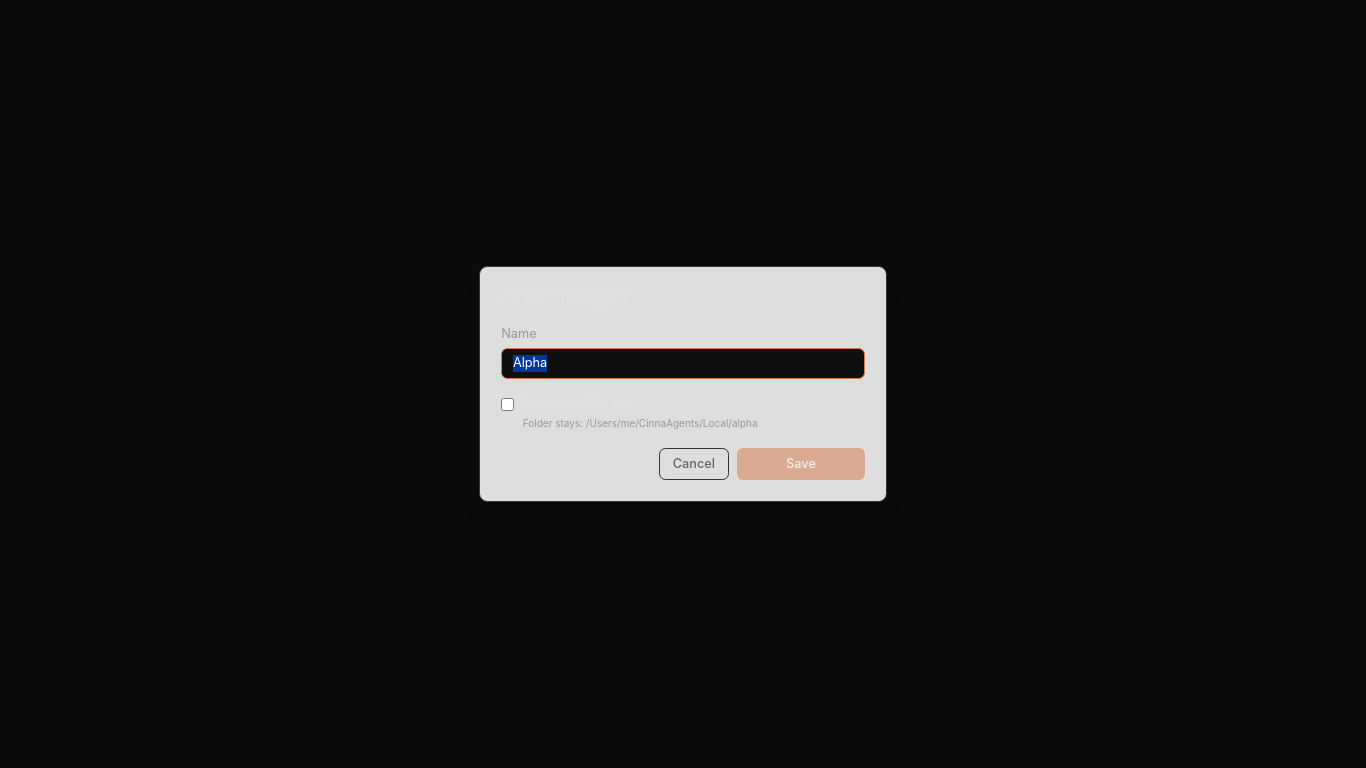
Test: RenameAgentDialog › flips the path line between where the folder stays and where it goes
Replace the text in the field with "Invoice Watcher" at [683, 363], box x1=501 y1=348 x2=865 y2=379
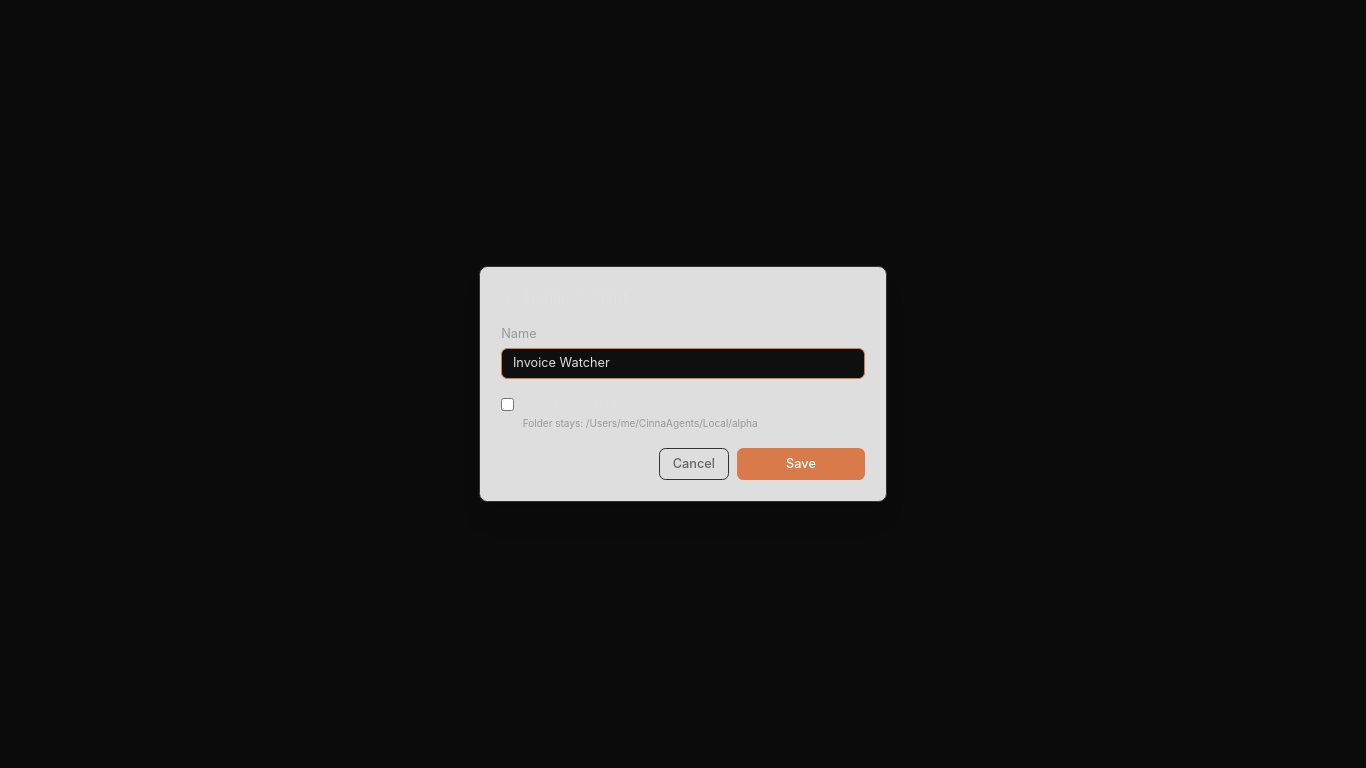
Expected: the text with test id "rename-folder-path" reads "Folder stays: /Users/me/CinnaAgents/Local/alpha", x1=523 y1=418 x2=758 y2=430
Click the checkbox labelled "Rename folder too" at [508, 405], box x1=501 y1=398 x2=514 y2=411
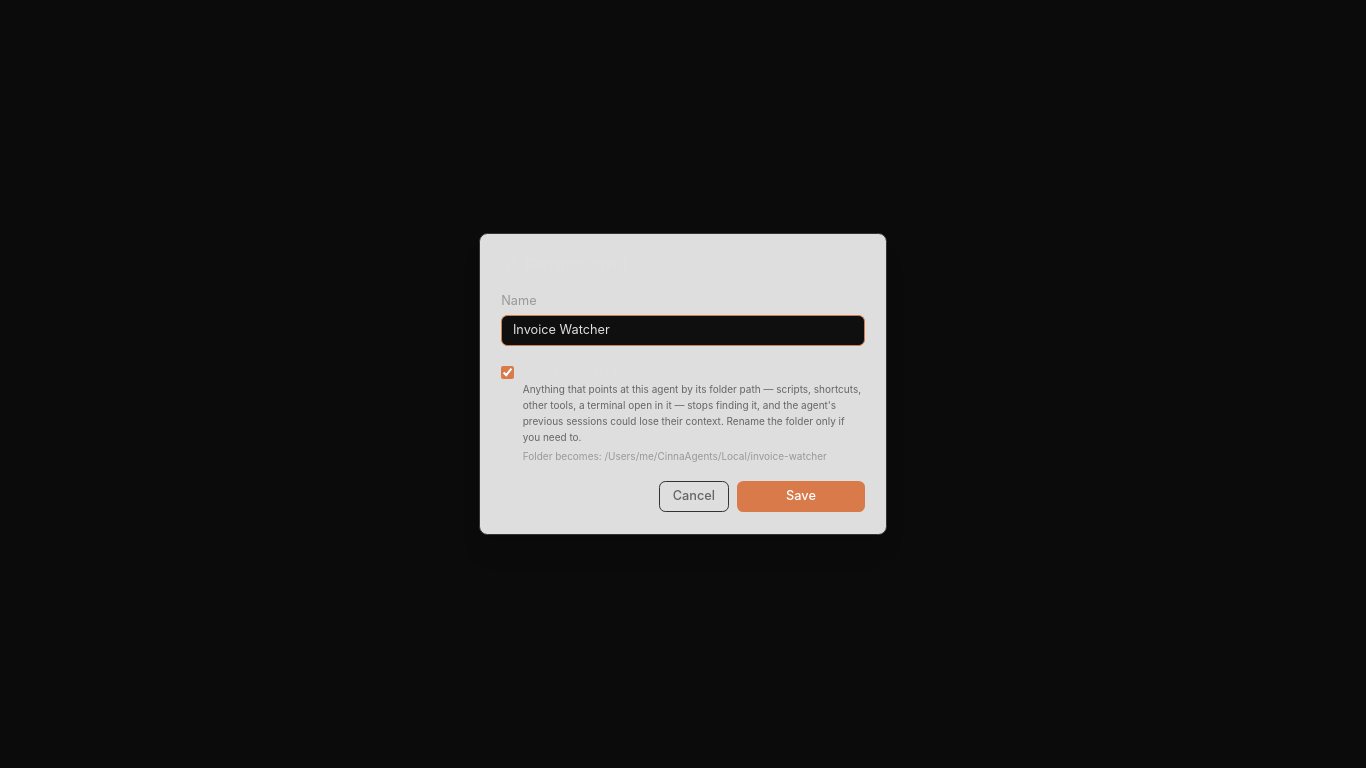
Expected: the text with test id "rename-folder-path" reads "Folder becomes: /Users/me/CinnaAgents/Local/invoice-watcher", x1=523 y1=450 x2=827 y2=462
Click the checkbox labelled "Rename folder too" at [508, 372], box x1=501 y1=366 x2=514 y2=379
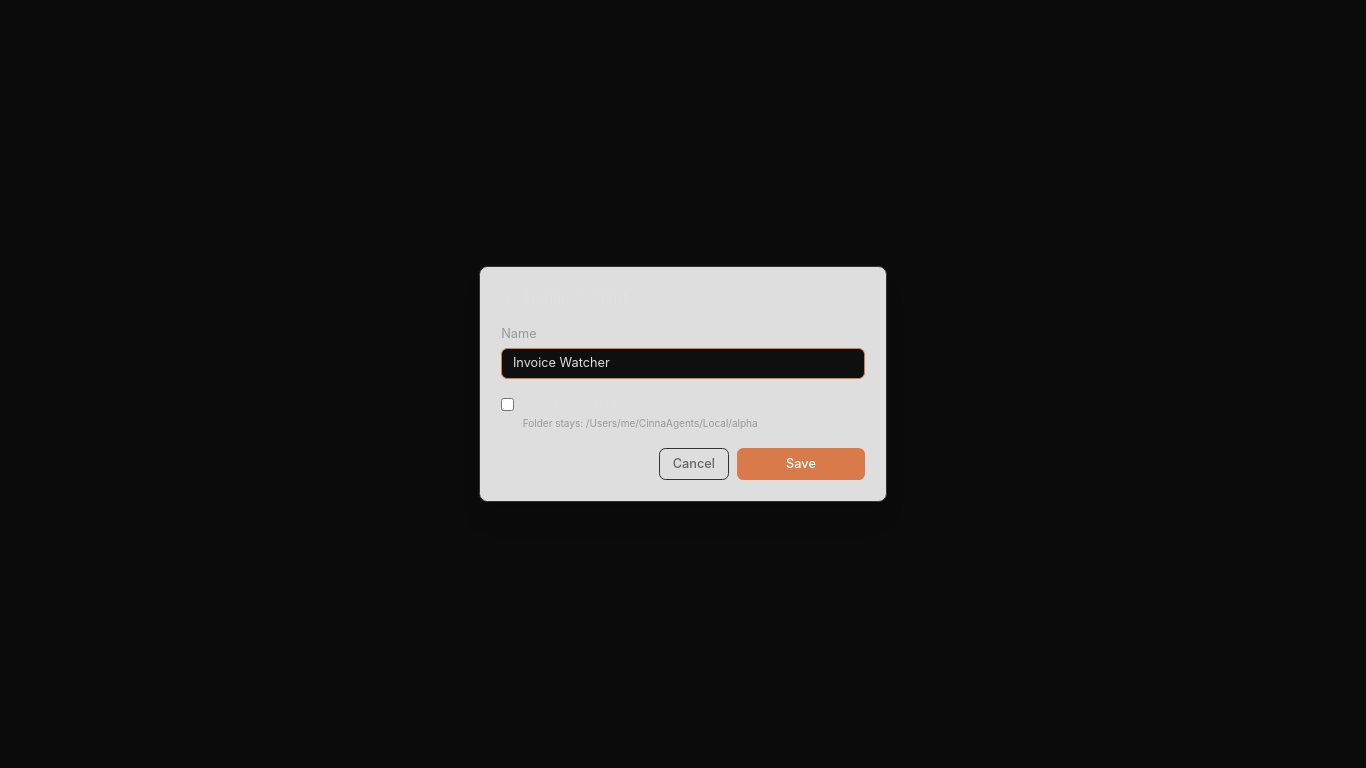
Expected: the text with test id "rename-folder-path" reads "Folder stays: /Users/me/CinnaAgents/Local/alpha", x1=523 y1=418 x2=758 y2=430
